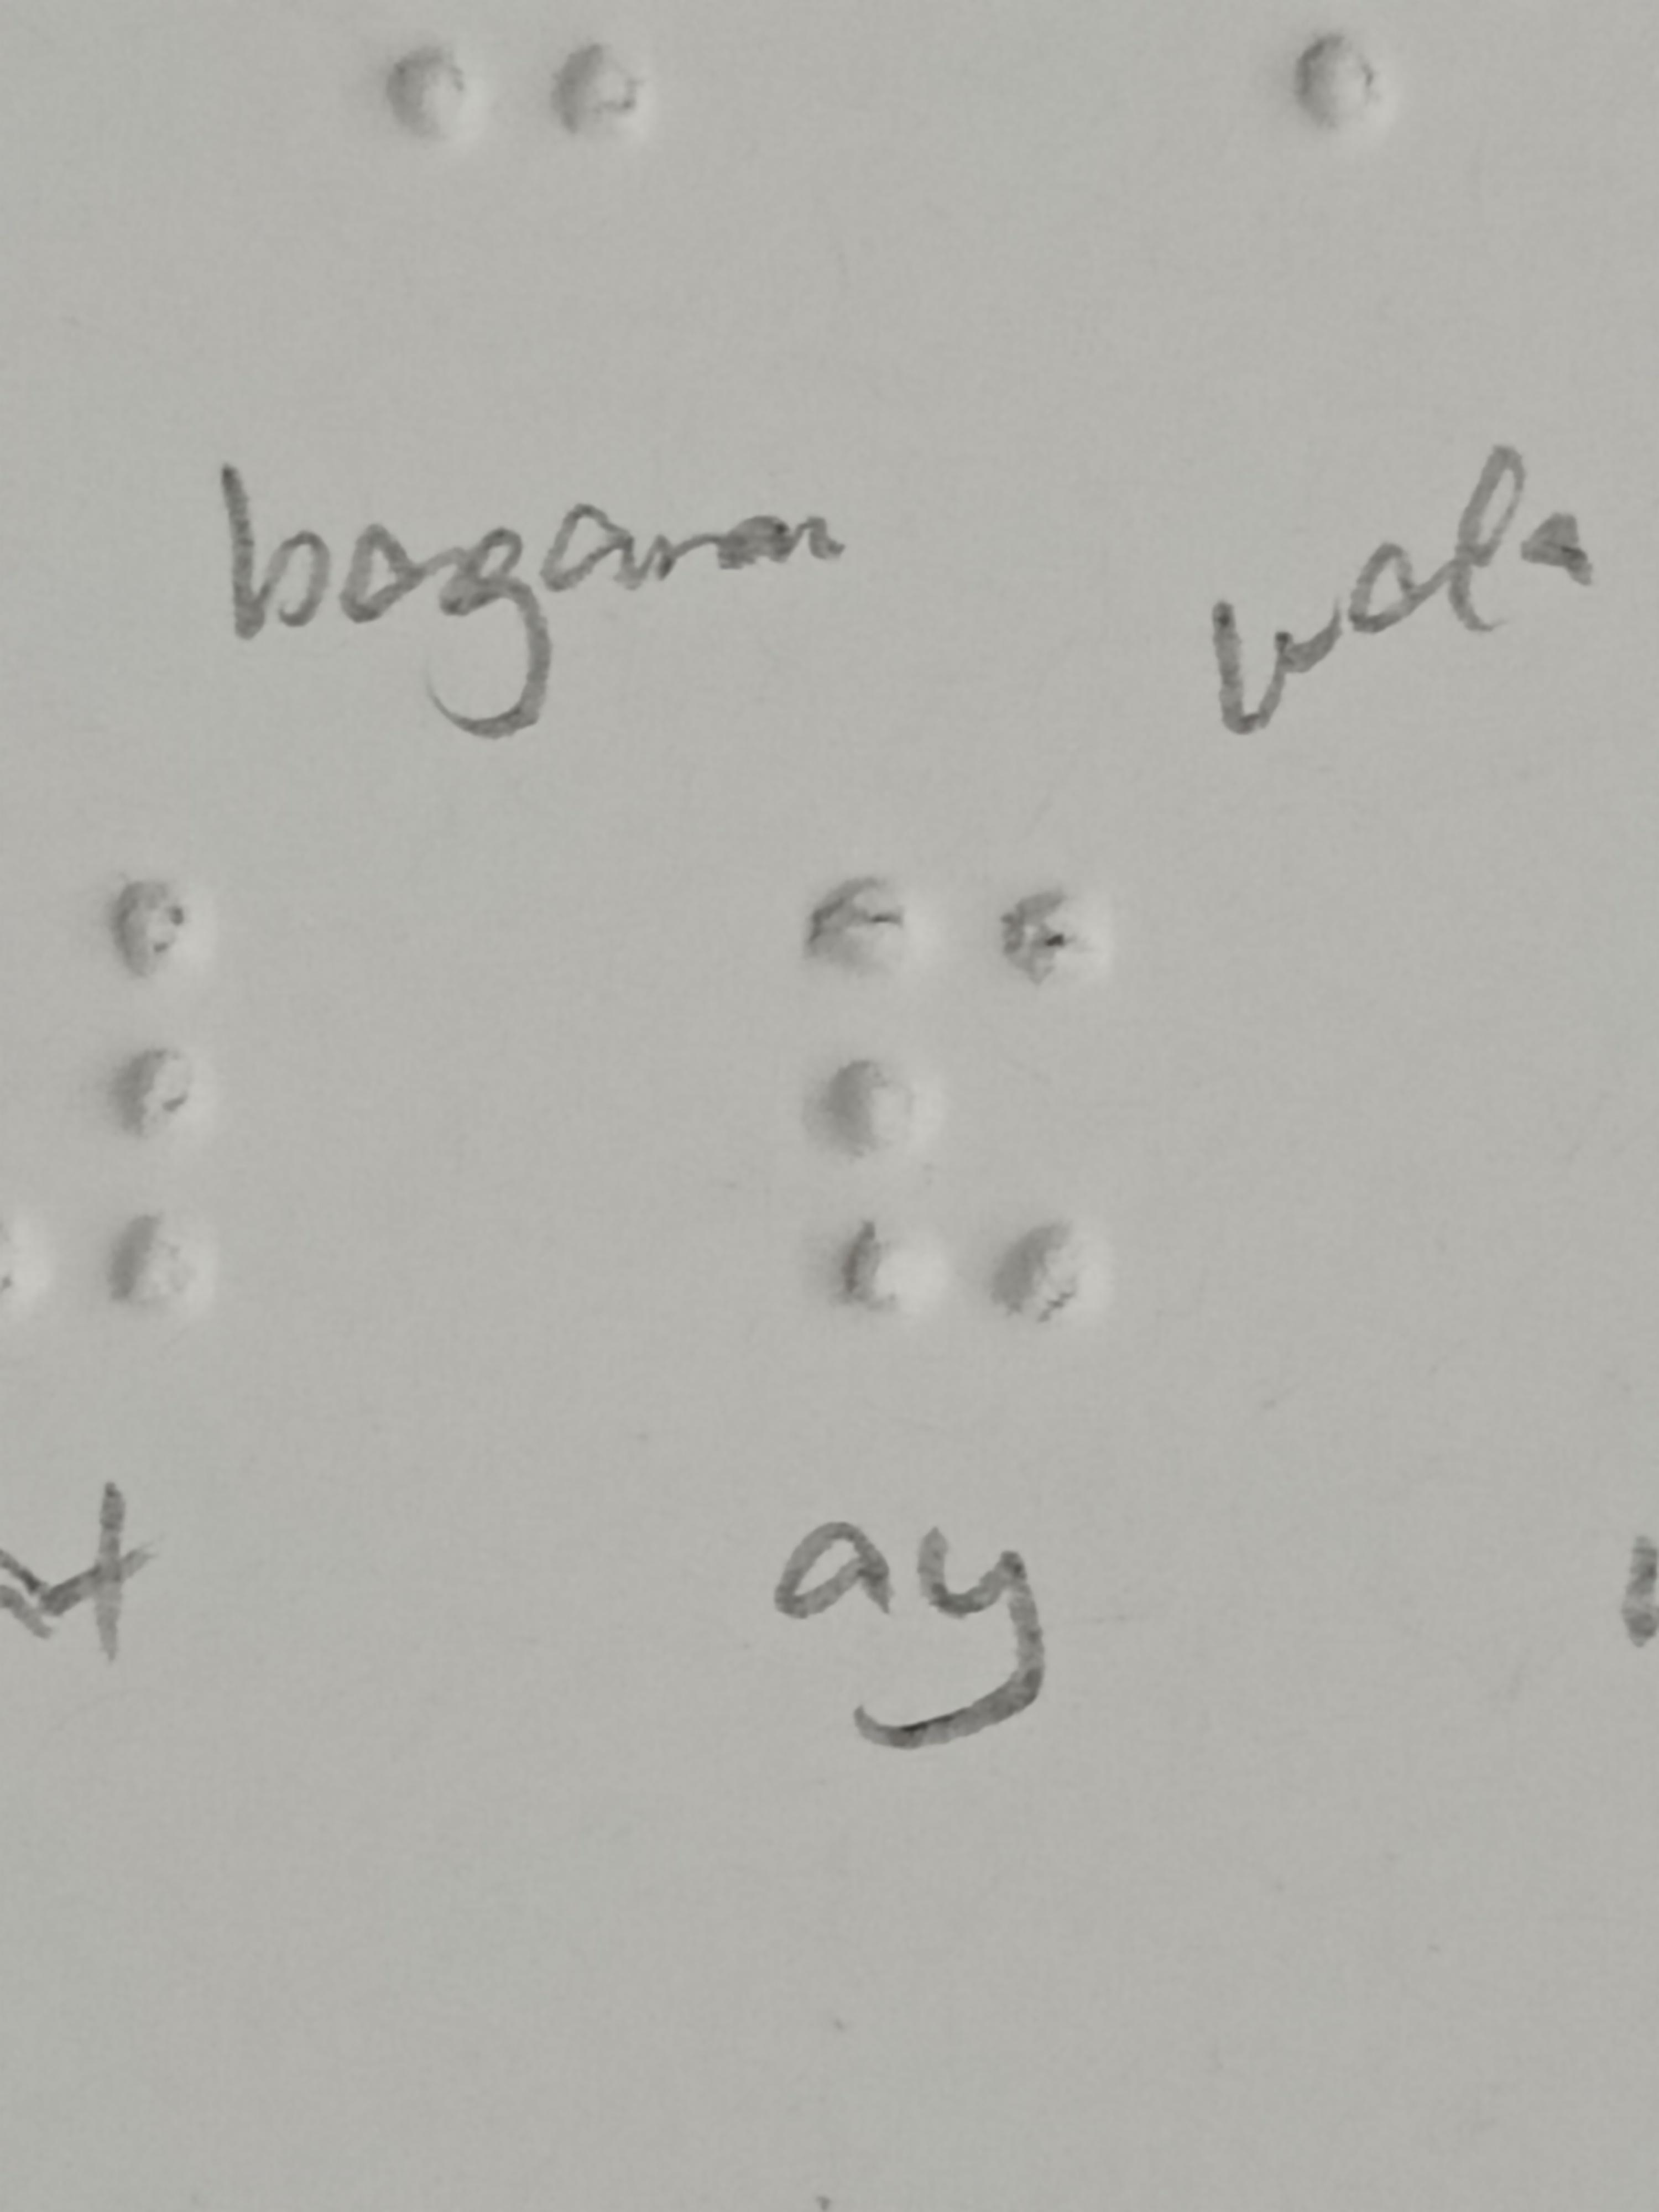one_cell_non_alphabet_ay: (814, 869, 1107, 1343)
